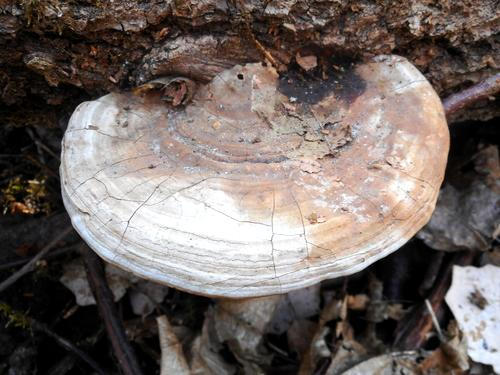Ganoderma - Fruit Body: (56, 52, 455, 303)
